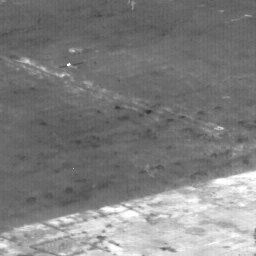aircraft: (68, 64, 70, 66)
